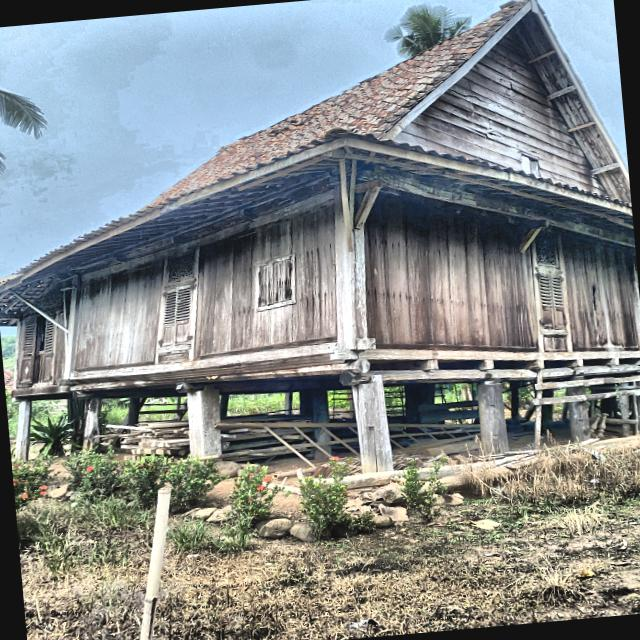column: (349, 375, 393, 473), (187, 388, 221, 465), (477, 383, 509, 454), (566, 376, 590, 443), (311, 391, 331, 458), (81, 398, 102, 456), (15, 400, 31, 462), (127, 397, 139, 434), (633, 372, 640, 432), (299, 391, 312, 414), (284, 392, 293, 414)
roof: (0, 0, 634, 326)
wall: (16, 181, 640, 397)
window: (19, 308, 55, 384), (256, 253, 295, 311), (161, 283, 192, 347), (537, 272, 567, 334)
